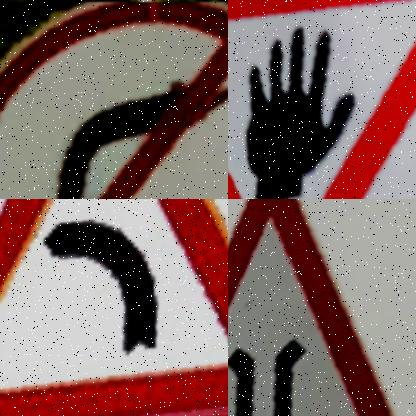Bridge Ahead: (228, 199, 397, 416)
Left bend: (0, 199, 228, 416)
No right turn: (0, 3, 228, 199)
Stop: (228, 0, 416, 199)
